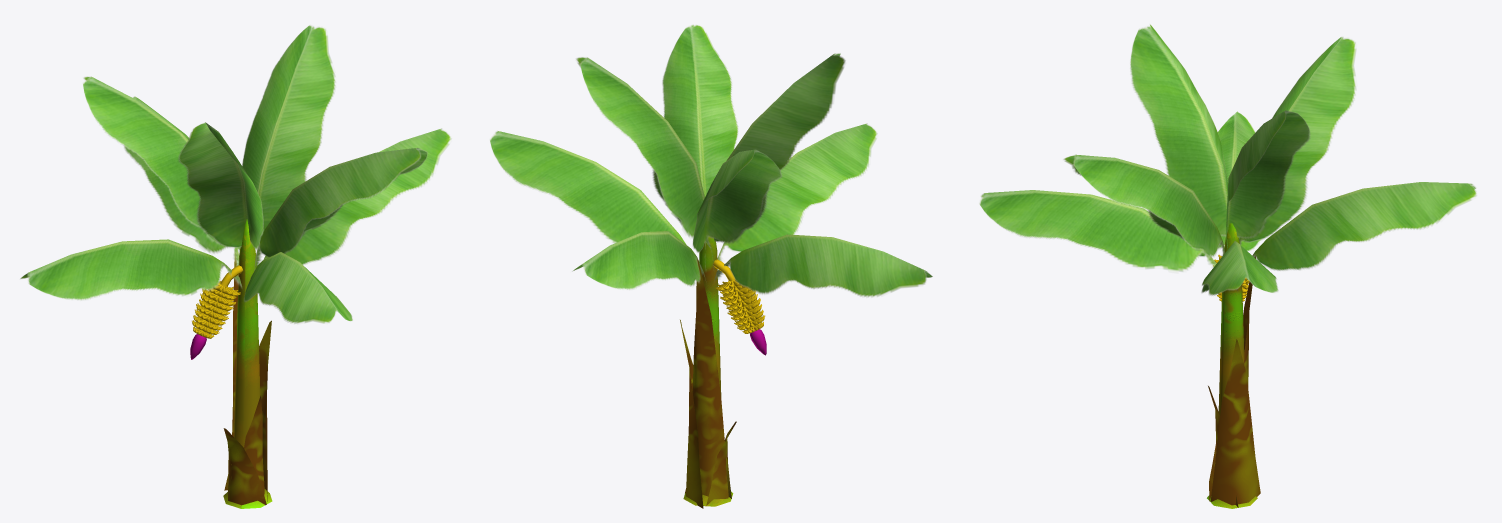
Rendered from banana_tree.glb.
3 renders of one model, left to right at view 1: azimuth 30°, elevation 25°; view 2: azimuth 150°, elevation 25°; view 3: azimuth 270°, elevation 25°, orthographic.
Parts seen in each view (by area): view 1: G_Leaf.007_dong_gedang_0, G_Leaf.001_dong_gedang_0, G_Trunk_Batang Pisang_0, G_Leaf.006_dong_gedang_0, G_Leaf.005_dong_gedang_0, G_Leaf_dong_gedang_0, G_Leaf.003_dong_gedang_0, G_Leaf.002_dong_gedang_0, G_Leaf.004_dong_gedang_0, G_Fruits_Buah_gedang_0; view 2: G_Leaf.003_dong_gedang_0, G_Leaf.001_dong_gedang_0, G_Trunk_Batang Pisang_0, G_Leaf.006_dong_gedang_0, G_Leaf.007_dong_gedang_0, G_Leaf.002_dong_gedang_0, G_Leaf.005_dong_gedang_0, G_Leaf_dong_gedang_0, G_Leaf.004_dong_gedang_0, G_Fruits_Buah_gedang_0; view 3: G_Leaf.002_dong_gedang_0, G_Leaf.004_dong_gedang_0, G_Leaf.005_dong_gedang_0, G_Trunk_Batang Pisang_0, G_Leaf_dong_gedang_0, G_Leaf.006_dong_gedang_0, G_Leaf.007_dong_gedang_0, G_Leaf.003_dong_gedang_0, G_Leaf.001_dong_gedang_0.
Boxes of the visible parts, x1,y1,x2,y2 form: G_Leaf.007_dong_gedang_0: [242, 25, 335, 239]; G_Leaf.001_dong_gedang_0: [20, 239, 242, 300]; G_Trunk_Batang Pisang_0: [223, 219, 272, 508]; G_Leaf.006_dong_gedang_0: [254, 147, 427, 270]; G_Leaf.005_dong_gedang_0: [178, 122, 263, 250]; G_Leaf_dong_gedang_0: [83, 76, 240, 254]; G_Leaf.003_dong_gedang_0: [263, 128, 451, 265]; G_Leaf.002_dong_gedang_0: [244, 252, 352, 323]; G_Leaf.004_dong_gedang_0: [124, 96, 239, 275]; G_Fruits_Buah_gedang_0: [192, 265, 242, 338]; G_Leaf.003_dong_gedang_0: [489, 131, 686, 244]; G_Leaf.001_dong_gedang_0: [714, 234, 932, 297]; G_Trunk_Batang Pisang_0: [680, 236, 736, 508]; G_Leaf.006_dong_gedang_0: [662, 24, 738, 196]; G_Leaf.007_dong_gedang_0: [576, 57, 704, 238]; G_Leaf.002_dong_gedang_0: [717, 123, 877, 261]; G_Leaf.005_dong_gedang_0: [714, 53, 845, 242]; G_Leaf_dong_gedang_0: [692, 149, 782, 268]; G_Leaf.004_dong_gedang_0: [572, 231, 705, 289]; G_Fruits_Buah_gedang_0: [713, 259, 765, 333]; G_Leaf.002_dong_gedang_0: [979, 190, 1216, 272]; G_Leaf.004_dong_gedang_0: [1252, 182, 1476, 270]; G_Leaf.005_dong_gedang_0: [1130, 24, 1227, 236]; G_Trunk_Batang Pisang_0: [1207, 223, 1260, 508]; G_Leaf_dong_gedang_0: [1239, 36, 1356, 244]; G_Leaf.006_dong_gedang_0: [1063, 154, 1225, 257]; G_Leaf.007_dong_gedang_0: [1226, 110, 1310, 249]; G_Leaf.003_dong_gedang_0: [1201, 240, 1278, 295]; G_Leaf.001_dong_gedang_0: [1218, 111, 1263, 251].
Bounding box in the file's own units: 4.79 × 4.5 × 4.79.
Materials: 4 (2 with a texture image).
